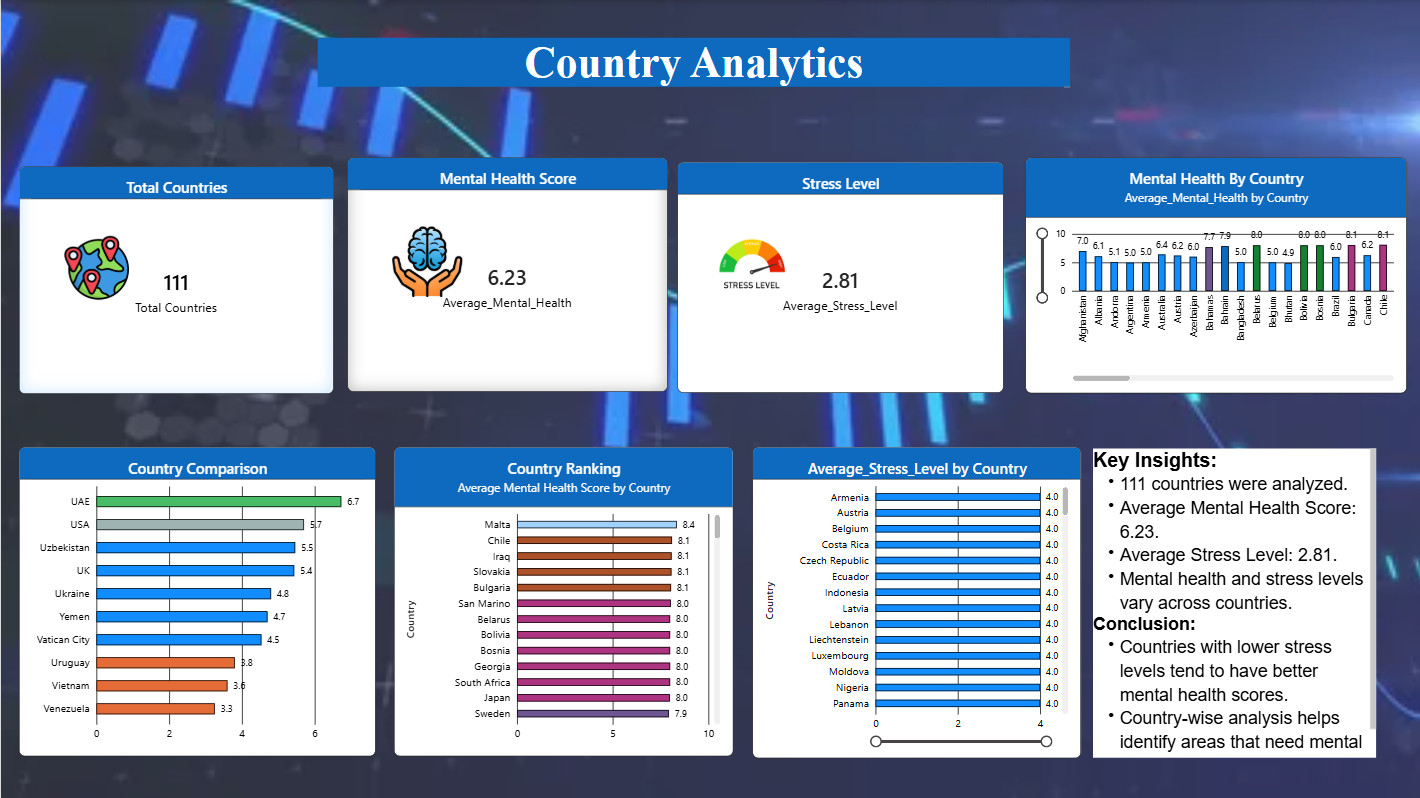

The page's visual inventory and layout, read from the dashboard file:
{"tool":"powerbi","page":{"name":"Country Analytics","canvas":[1920,1080],"ordinal":4},"visuals":[{"type":"card","title":"Total Countries","fields":{"Values":["Student Social Media And Mental Health Impact.Total Countries"]},"box":[24.5,225.1,425.3,307.1],"z":0,"group":"g2"},{"type":"clusteredBarChart","title":"Country Comparison","fields":{"Category":["Student Social Media And Mental Health Impact.Country"],"Y":["Student Social Media And Mental Health Impact.Average_Daily_Usage Hours"]},"box":[23.6,604.8,482,418.2],"z":0},{"type":"card","title":"Mental Health Score","fields":{"Values":["Student Social Media And Mental Health Impact.Average_Mental_Health"]},"box":[468.3,213.5,432.4,316.6],"z":1000,"group":"g3"},{"type":"clusteredBarChart","title":"Country Ranking","fields":{"Category":["Student Social Media And Mental Health Impact.Country"],"Y":["Student Social Media And Mental Health Impact.Average Mental Health Score"]},"box":[531.6,604.8,458.3,418.2],"z":1000},{"type":"clusteredColumnChart","title":"Mental Health By Country","fields":{"Y":["Student Social Media And Mental Health Impact.Average_Mental_Health"],"Category":["Student Social Media And Mental Health Impact.Country Hierarchy.Country","Student Social Media And Mental Health Impact.Country Hierarchy.Gender","Student Social Media And Mental Health Impact.Country Hierarchy.Academic_Level"]},"box":[1384.5,212.6,515.1,319],"z":2000},{"type":"card","title":"Stress Level","fields":{"Values":["Student Social Media And Mental Health Impact.Average_Stress_Level"]},"box":[916.2,219.7,440.6,312.1],"z":2000,"group":"g1"},{"type":"clusteredBarChart","fields":{"Category":["Student Social Media And Mental Health Impact.Country"],"Y":["Student Social Media And Mental Health Impact.Average_Stress_Level"]},"box":[1015.9,604.8,444.2,420.5],"z":3000},{"type":"textbox","title":"Country Analytics","box":[427.5,50,1017.5,67.5],"z":4000},{"type":"group","id":"g1","title":"Group 1","box":[907.2,219.7,448.9,311.9],"z":5000},{"type":"group","id":"g2","title":"Group 2","box":[24.5,225.1,425.3,307.1],"z":6000},{"type":"group","id":"g3","title":"Group 3","box":[468.3,213.5,432.4,316.6],"z":7000},{"type":"image","box":[907.2,310.5,217.7,94.7],"z":7001,"group":"g1"},{"type":"image","box":[24.9,318.5,209.6,87.5],"z":7003,"group":"g2"},{"type":"image","box":[505.3,307.6,142.5,95],"z":7005,"group":"g3"},{"type":"textbox","box":[1476.6,607.2,382.7,418.2],"z":8000}]}

Visuals, with their boxes in screenshot pixels (x1, y1, x2, y2), scaled from the page's 1920x1080 canvas onto the 1420x798 screenshot:
"Total Countries" card: x1=18, y1=166, x2=333, y2=393
"Country Comparison" clusteredBarChart: x1=17, y1=447, x2=374, y2=756
"Mental Health Score" card: x1=346, y1=158, x2=666, y2=392
"Country Ranking" clusteredBarChart: x1=393, y1=447, x2=732, y2=756
"Mental Health By Country" clusteredColumnChart: x1=1024, y1=157, x2=1405, y2=393
"Stress Level" card: x1=678, y1=162, x2=1003, y2=393
clusteredBarChart - Student Social Media And Mental Health Impact.Country x Student Social Media And Mental Health Impact.Average_Stress_Level: x1=751, y1=447, x2=1080, y2=758
"Country Analytics" textbox: x1=316, y1=37, x2=1069, y2=87
"Group 1" group: x1=671, y1=162, x2=1003, y2=393
"Group 2" group: x1=18, y1=166, x2=333, y2=393
"Group 3" group: x1=346, y1=158, x2=666, y2=392
image: x1=671, y1=229, x2=832, y2=299
image: x1=18, y1=235, x2=173, y2=300
image: x1=374, y1=227, x2=479, y2=297
textbox: x1=1092, y1=449, x2=1375, y2=758
